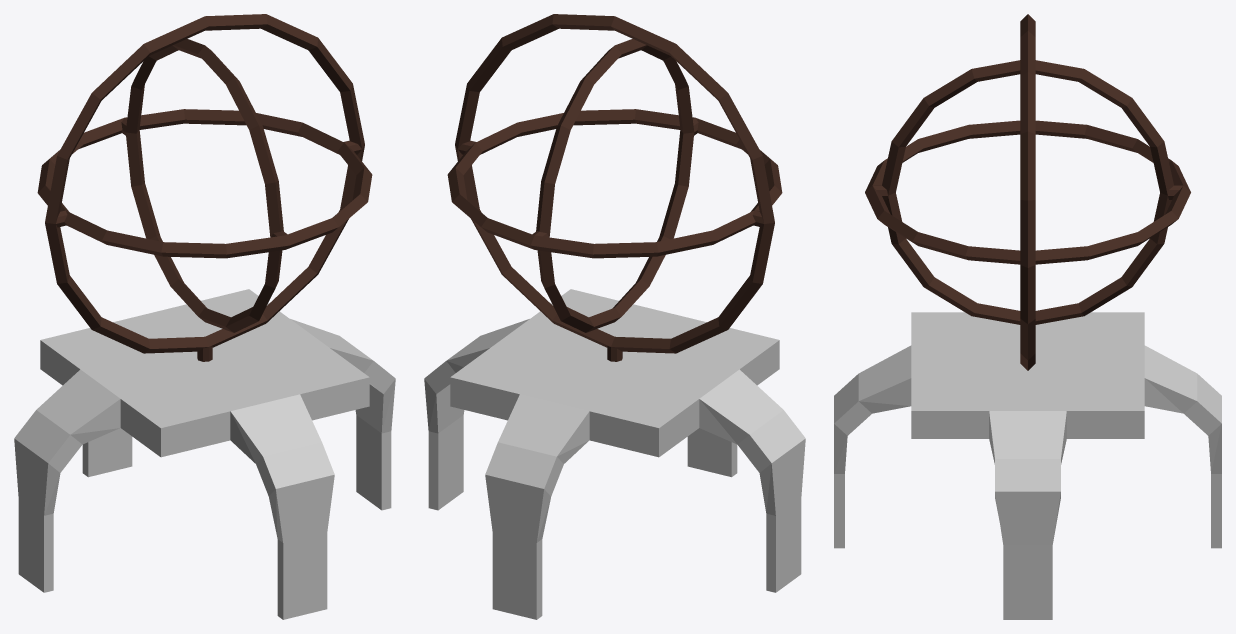
File: RMAKER_1.OBJ
3 views of the same model, side by side, from view 1: azimuth 30°, elevation 25°; view 2: azimuth 150°, elevation 25°; view 3: azimuth 270°, elevation 25° (orthographic). The views are drawn at different scales.
Parts seen in each view (by area): view 1: RMAKER_1; view 2: RMAKER_1; view 3: RMAKER_1.
Boxes of the visible parts, x1=… form: RMAKER_1: x1=14, y1=14, x2=395, y2=619; RMAKER_1: x1=424, y1=14, x2=805, y2=619; RMAKER_1: x1=834, y1=14, x2=1221, y2=619.
Size of the model in its own units: 1.25 by 1.8 by 1.25.
